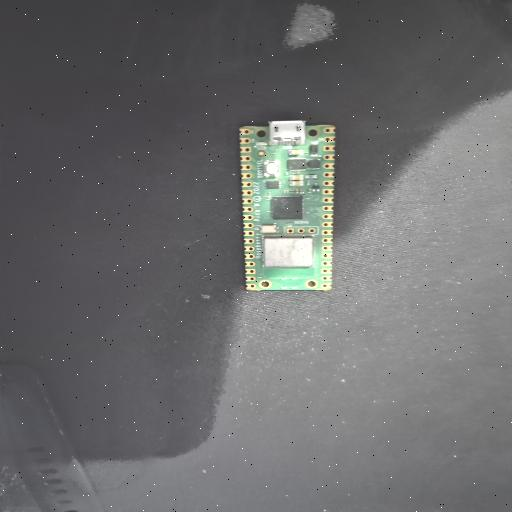raspberry-pi-pico-w: (237, 120, 337, 291)
